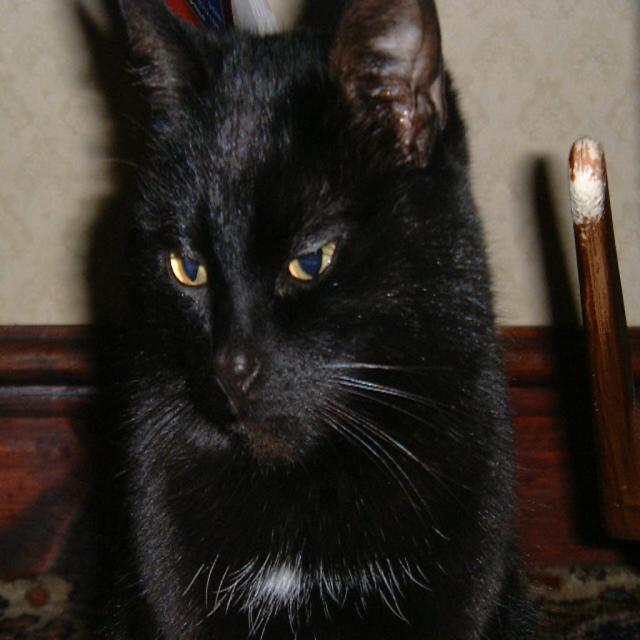Cat: (80, 0, 538, 639)
